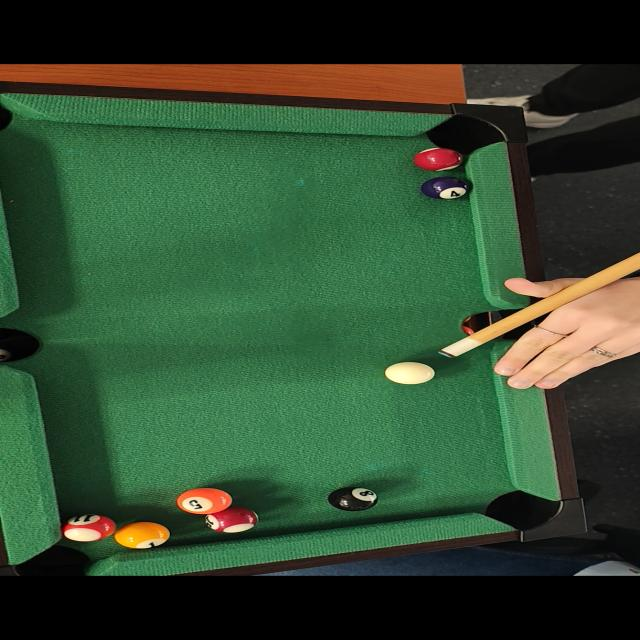cue ball: (381, 360, 437, 386)
other: (102, 522, 173, 552), (175, 484, 236, 517), (51, 514, 117, 544), (410, 144, 470, 174), (206, 506, 259, 536), (422, 174, 476, 202), (329, 484, 383, 510)
